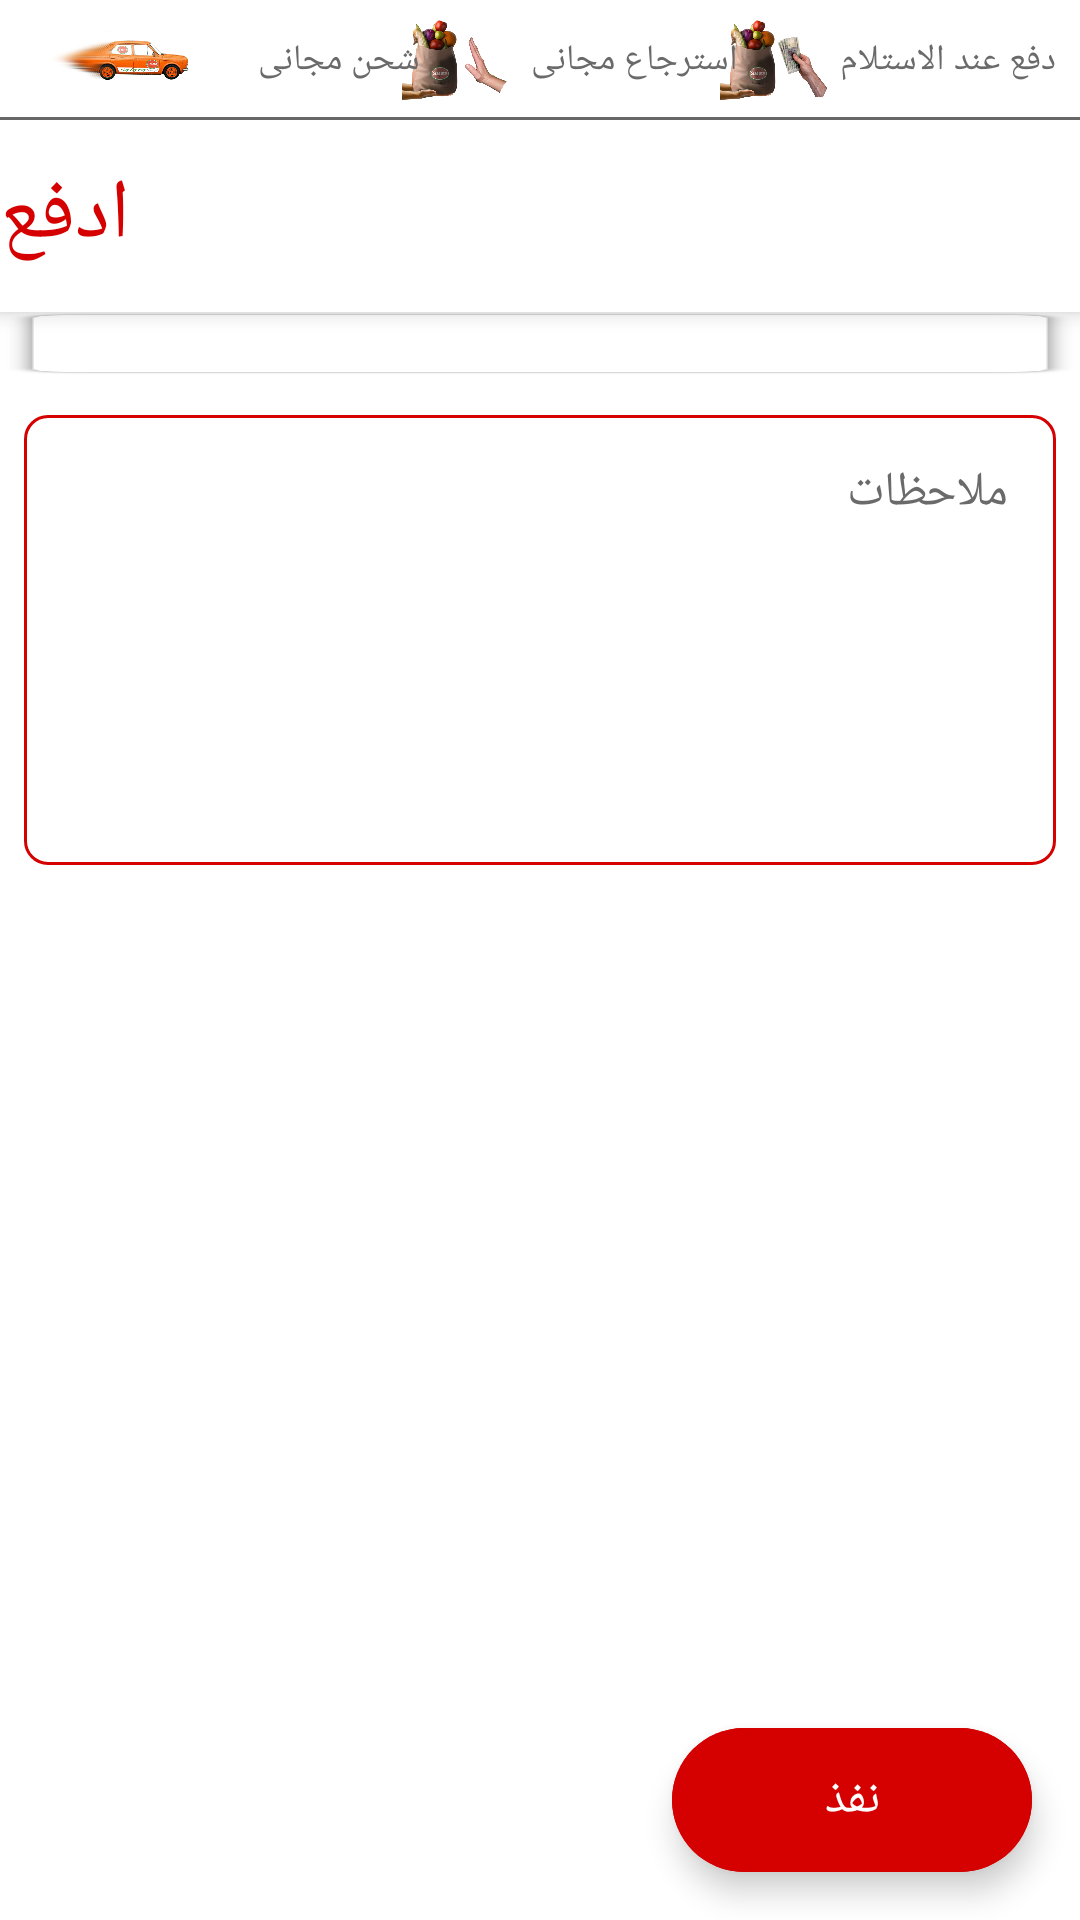

Named icons in this screenshot (1080px x 1920px) and their bounding boxes, BBox(x1, y1, x2, y2):
cash: BBox(720, 20, 827, 100)
freereturn: BBox(402, 20, 507, 100)
